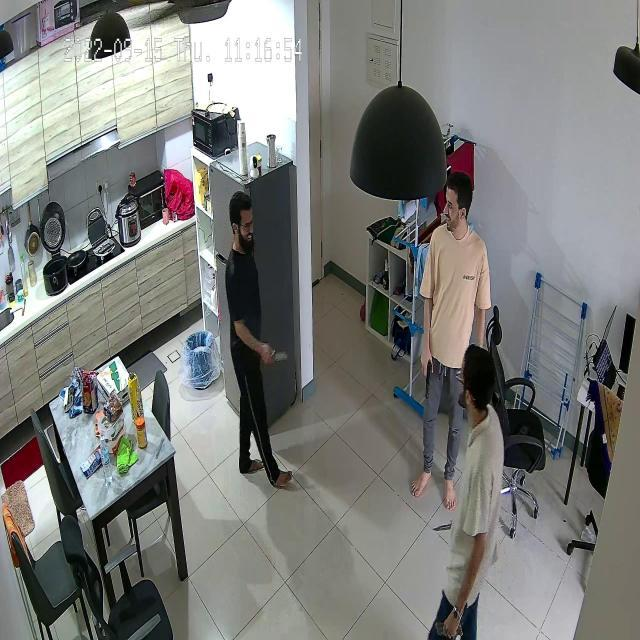Gun: (411, 352, 439, 398)
Knife: (256, 338, 296, 367)
